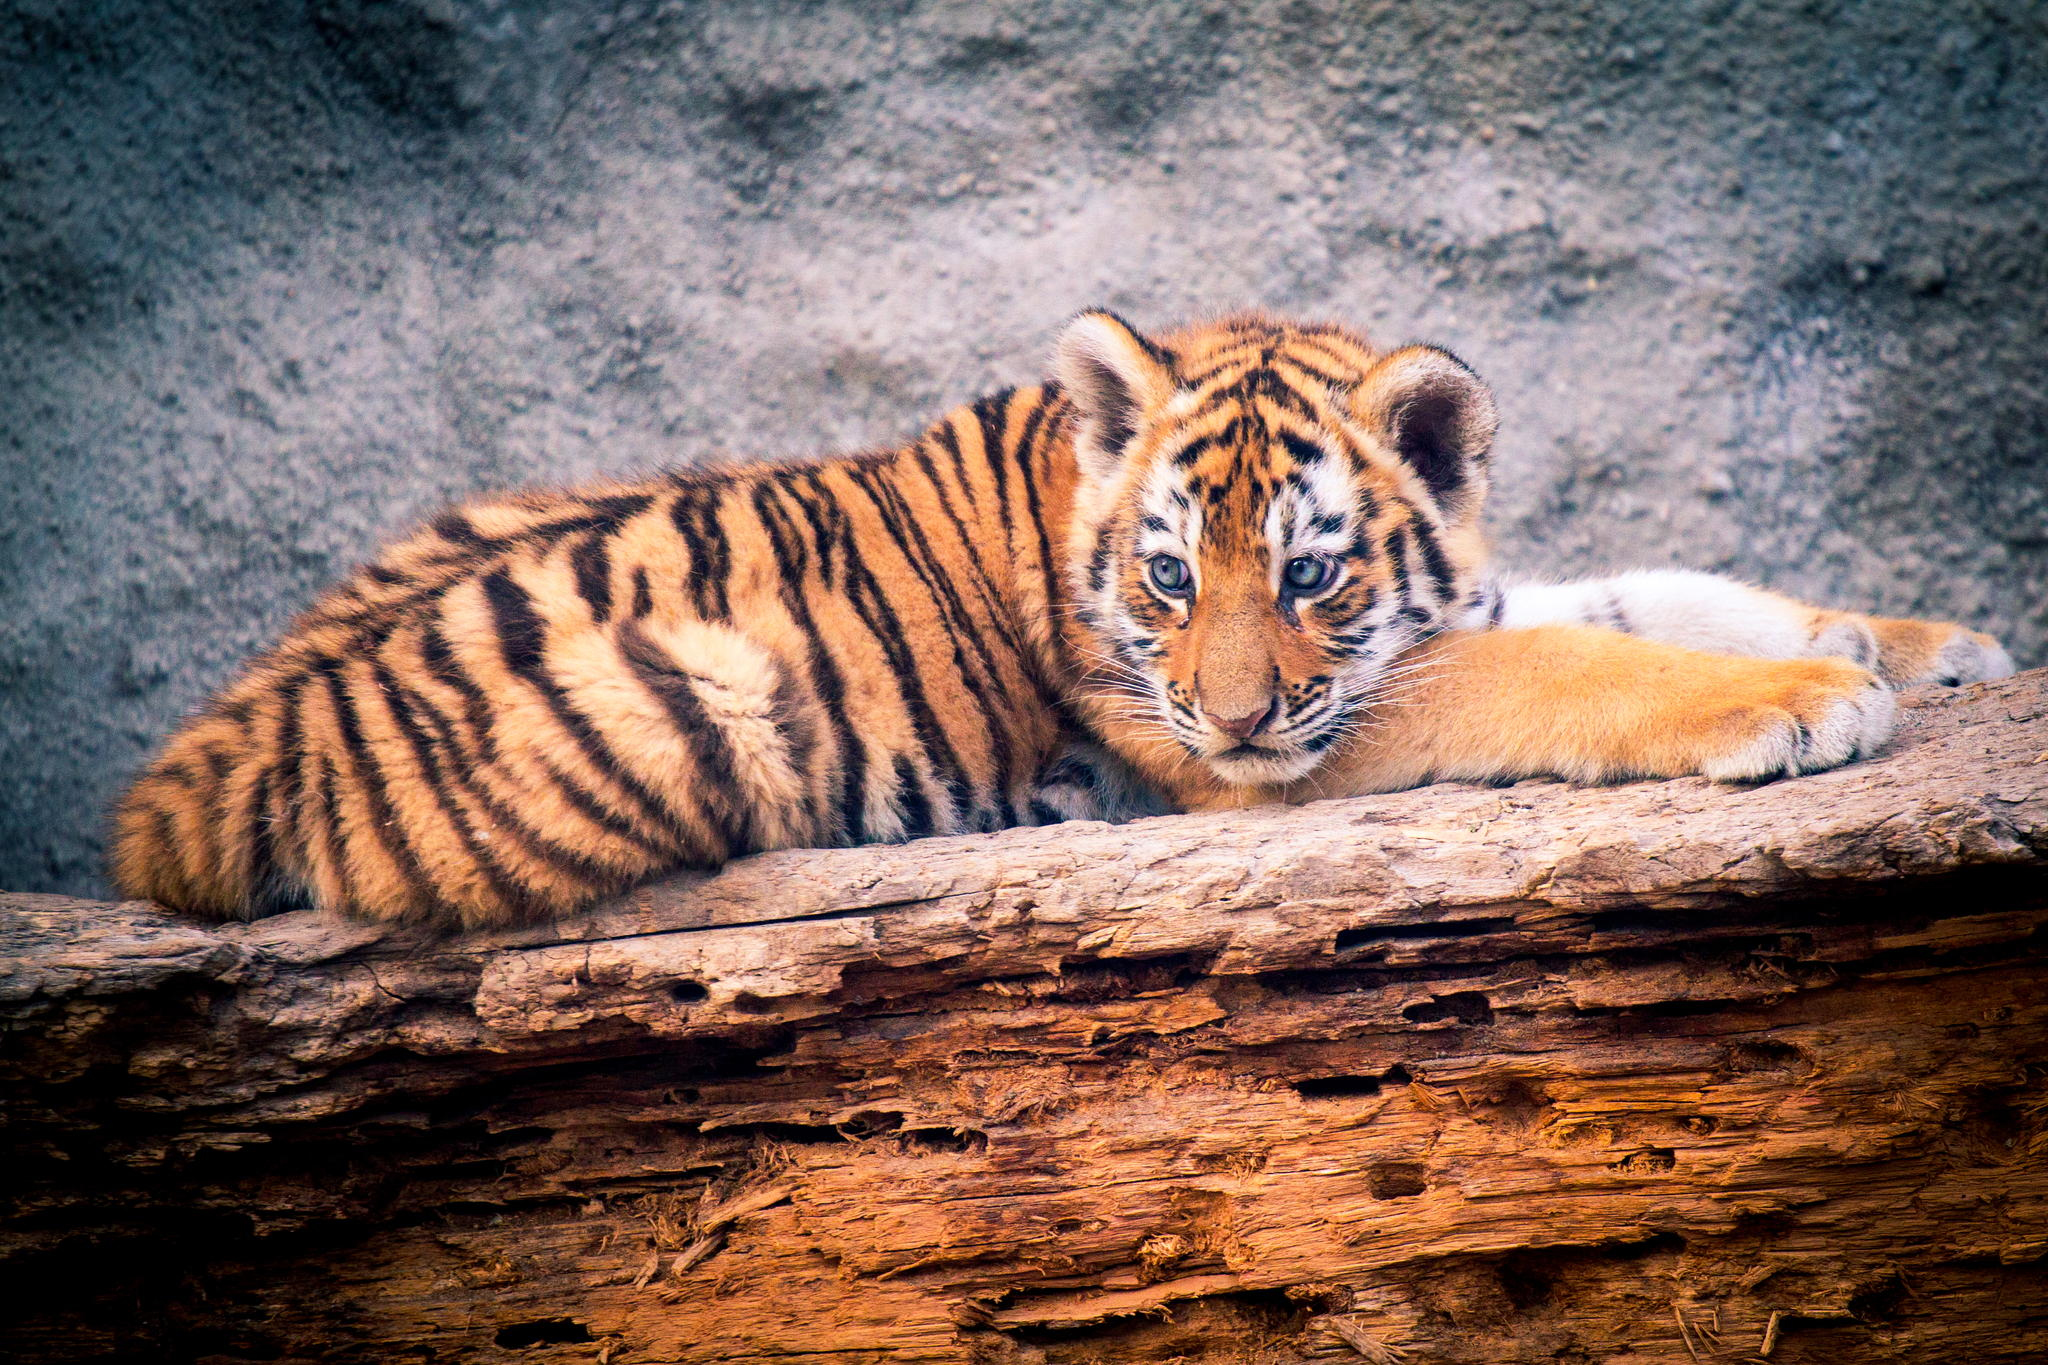tiger: (227, 312, 1932, 881)
